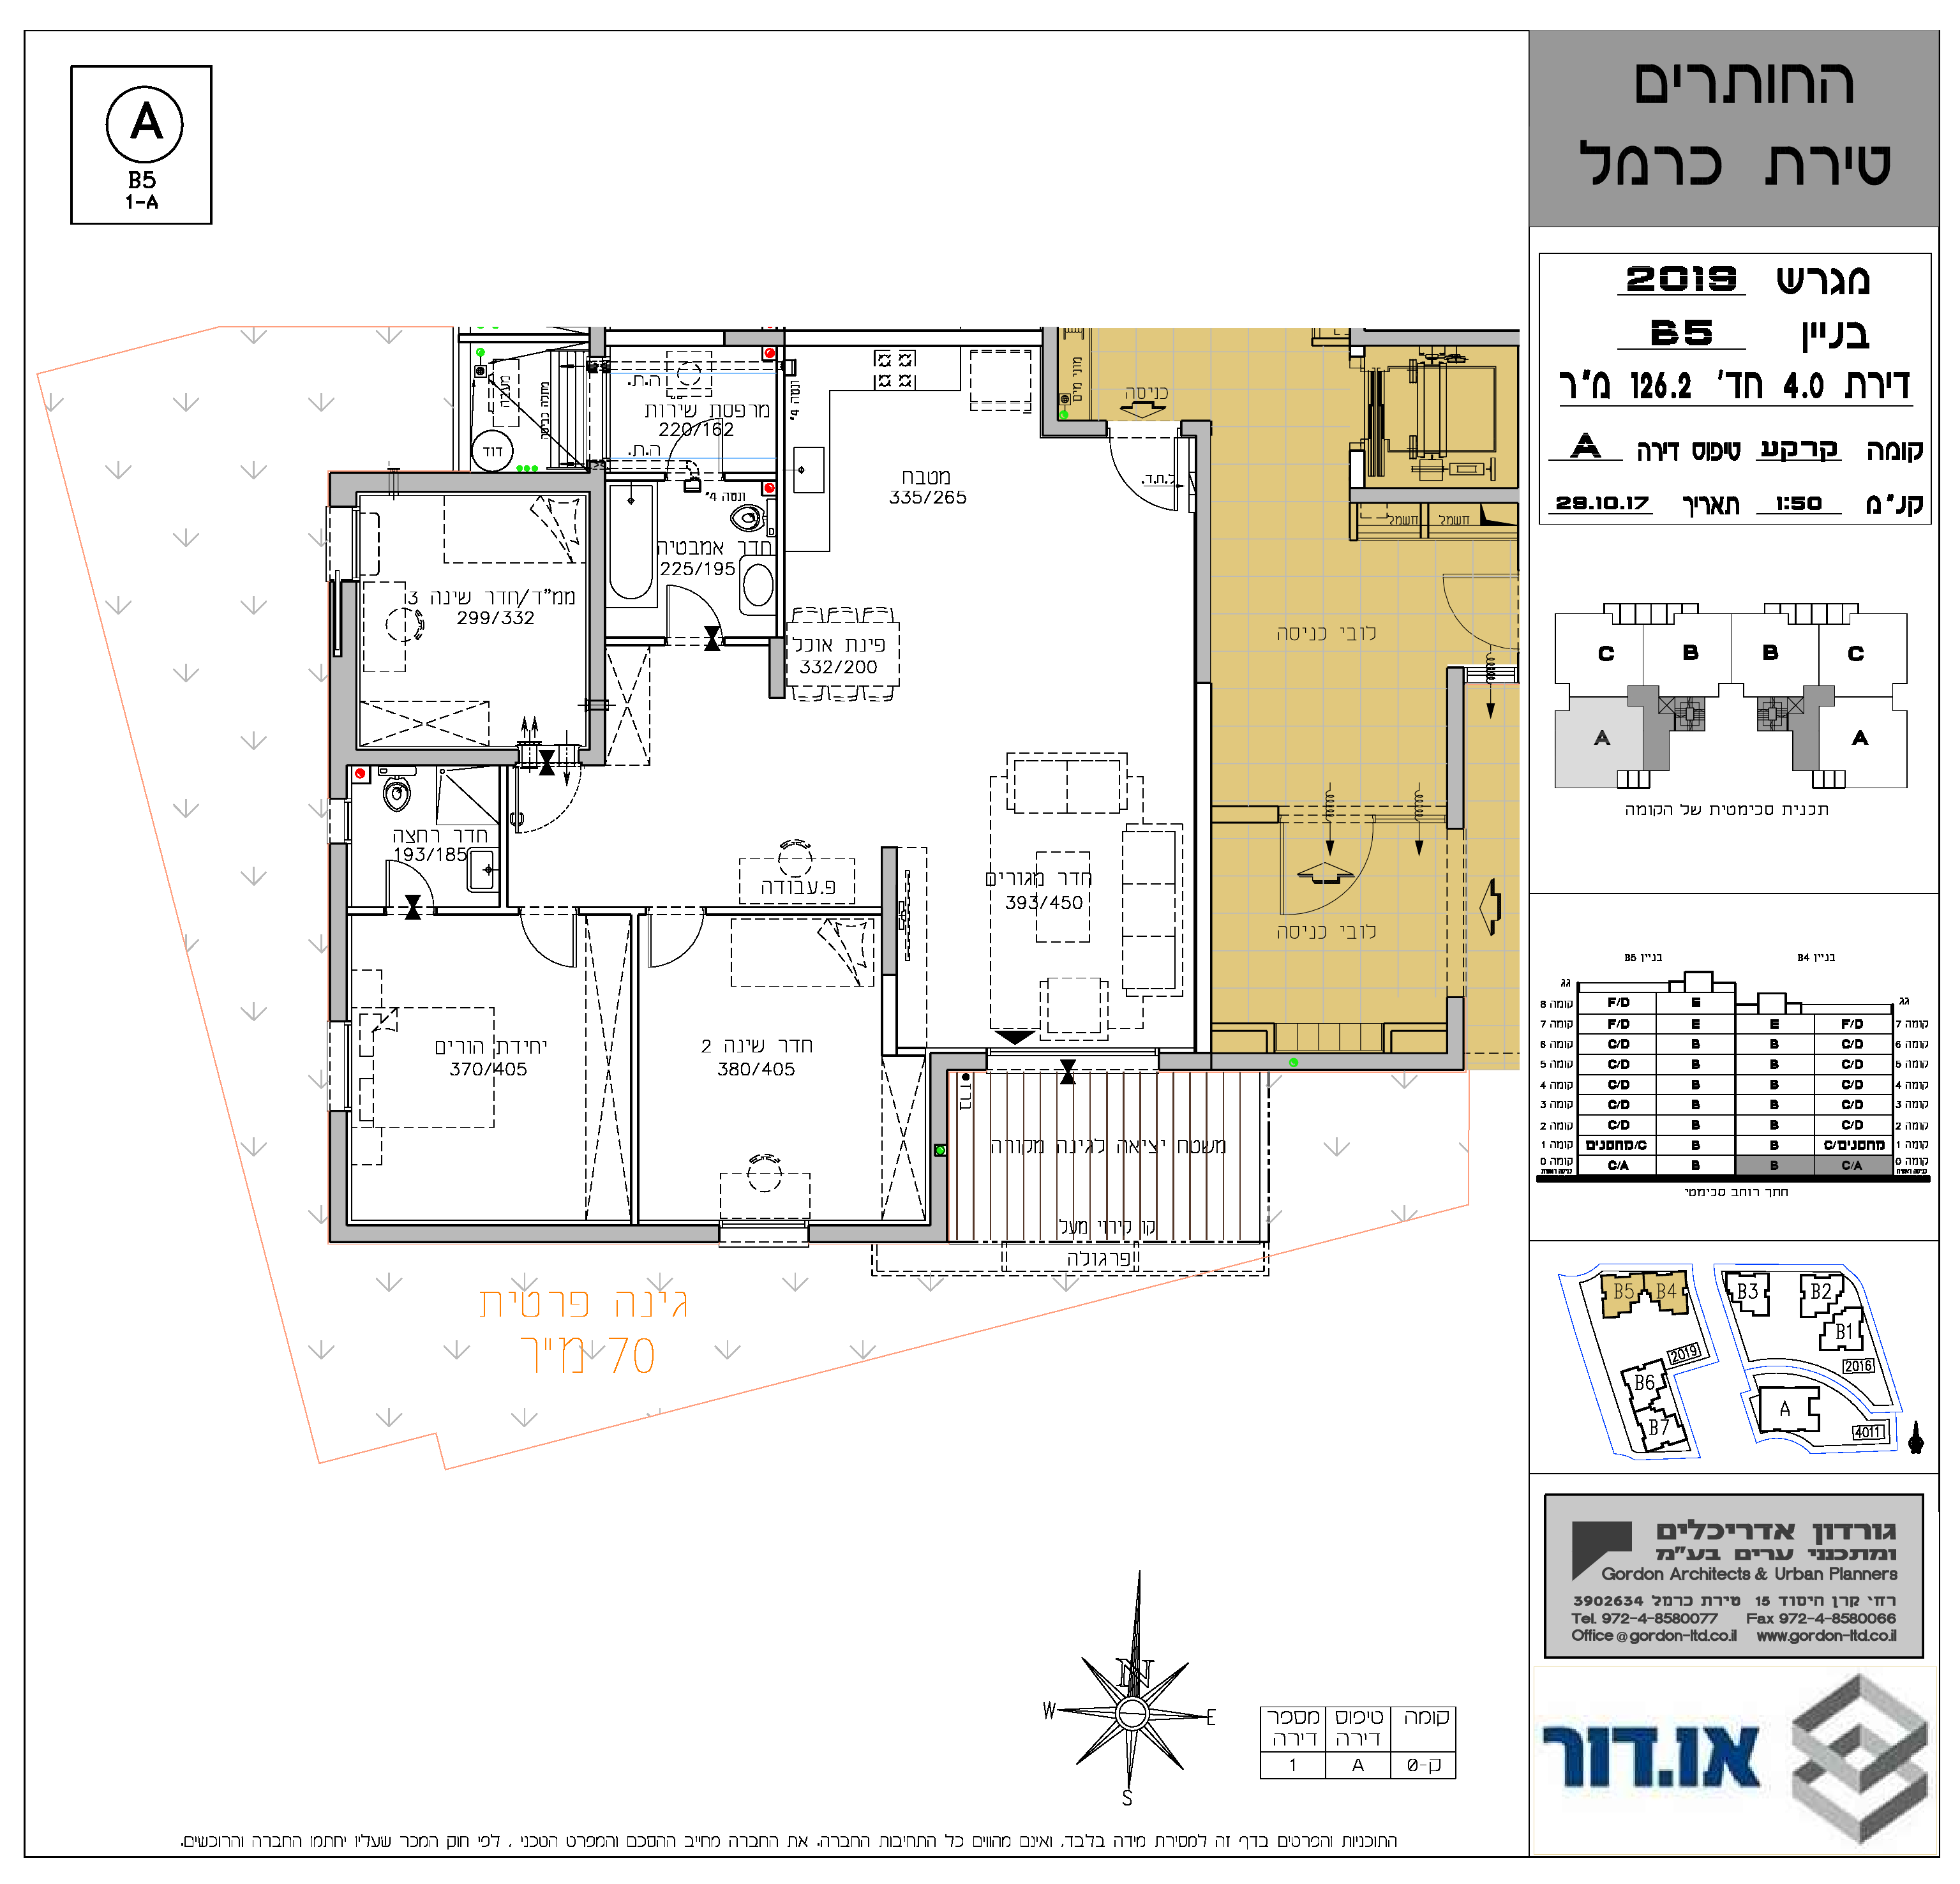door: (1095, 446, 1185, 518), (511, 784, 585, 836), (644, 924, 707, 980), (518, 922, 581, 974), (662, 579, 723, 625), (373, 857, 446, 892)
wall: (341, 1228, 716, 1240), (1199, 427, 1209, 675), (408, 474, 585, 488), (593, 474, 602, 689), (1356, 332, 1517, 343), (334, 855, 345, 1015), (334, 663, 352, 754), (1318, 1057, 1458, 1067), (333, 1118, 345, 1237), (814, 1228, 943, 1239), (1451, 670, 1460, 824), (364, 752, 511, 761), (884, 854, 894, 969), (1354, 492, 1517, 499), (345, 588, 352, 749), (1045, 331, 1054, 429), (933, 1058, 943, 1135), (1451, 1002, 1460, 1064)
window: (987, 1044, 1159, 1069), (324, 506, 366, 581), (719, 1214, 807, 1249), (324, 1022, 353, 1111), (326, 799, 355, 841)
